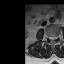CCS_normal: (51, 35, 53, 42)
LFS_normal: (55, 35, 57, 39)
LLS_normal: (53, 35, 55, 41)
RFS_normal: (47, 35, 49, 40)
RLS_normal: (49, 35, 51, 41)
